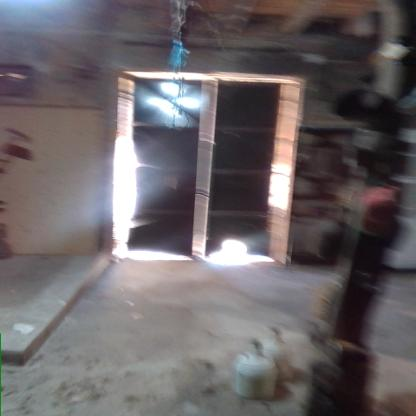closed: (106, 61, 310, 264)
